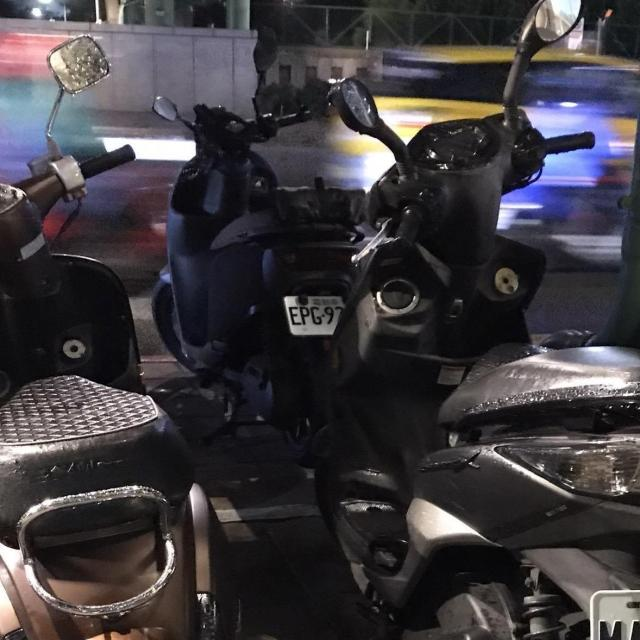W: (276, 285, 353, 343)
